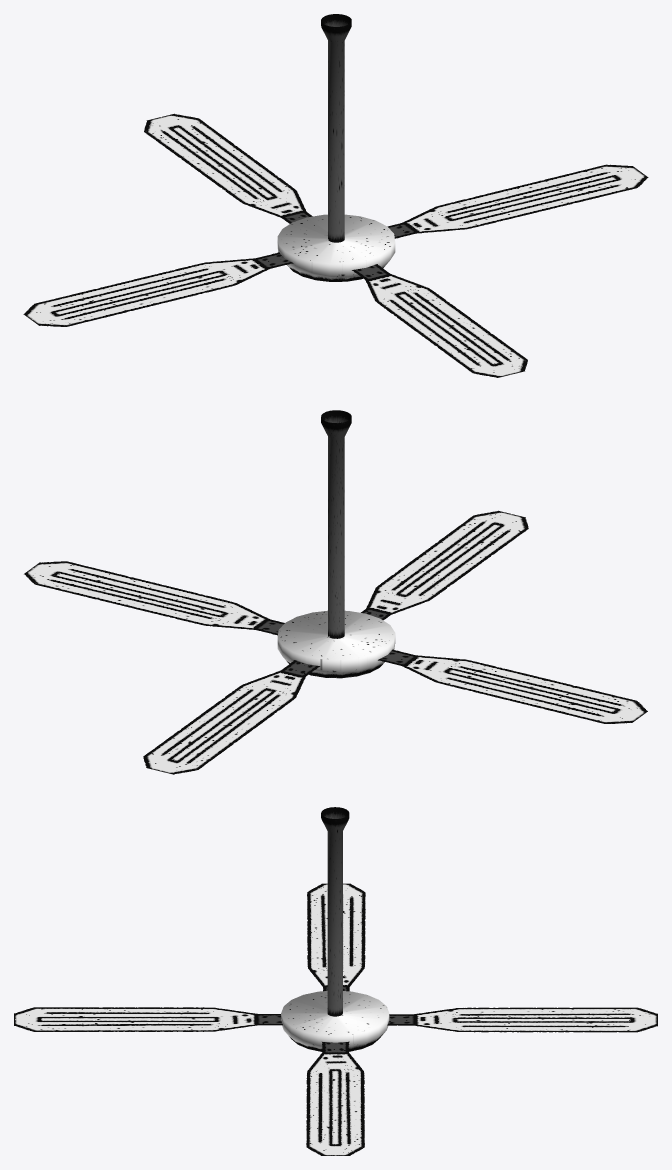
File: fan_roof.obj
The picture shows the model from 3 angles, top to bottom: view 1: azimuth 30°, elevation 25°; view 2: azimuth 150°, elevation 25°; view 3: azimuth 270°, elevation 25°; orthographic projection. The views are drawn at different scales.
Visible parts, largest first — view 1: Cylinder; view 2: Cylinder; view 3: Cylinder.
Part boxes in pixels (x1,y1,x2,y2): Cylinder: [23, 14, 648, 377]; Cylinder: [24, 410, 647, 774]; Cylinder: [14, 807, 657, 1155].
Size of the model in its own units: 11.89 by 4.49 by 11.89.
